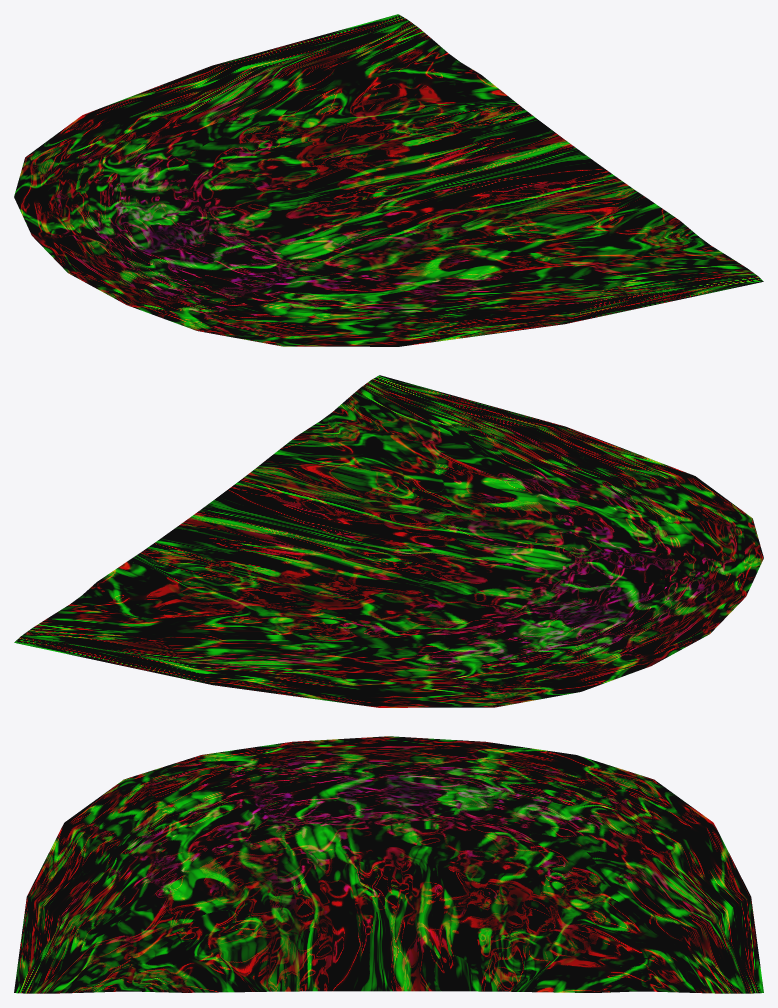
The model's file is waterfall_ripple_SM.fbx.
The picture shows the model from 3 angles, top to bottom: view 1: azimuth 30°, elevation 25°; view 2: azimuth 150°, elevation 25°; view 3: azimuth 270°, elevation 25°; orthographic projection. The views are drawn at different scales.
Visible parts, largest first — view 1: waterfall_ripple_SM; view 2: waterfall_ripple_SM; view 3: waterfall_ripple_SM.
Part boxes in pixels (x1,y1,x2,y2): waterfall_ripple_SM: (14,14,763,346); waterfall_ripple_SM: (14,375,763,707); waterfall_ripple_SM: (14,736,763,993).
Size of the model in its own units: 857 by 1055 by 1.14e-05.
Materials: 1 (1 with a texture image).
